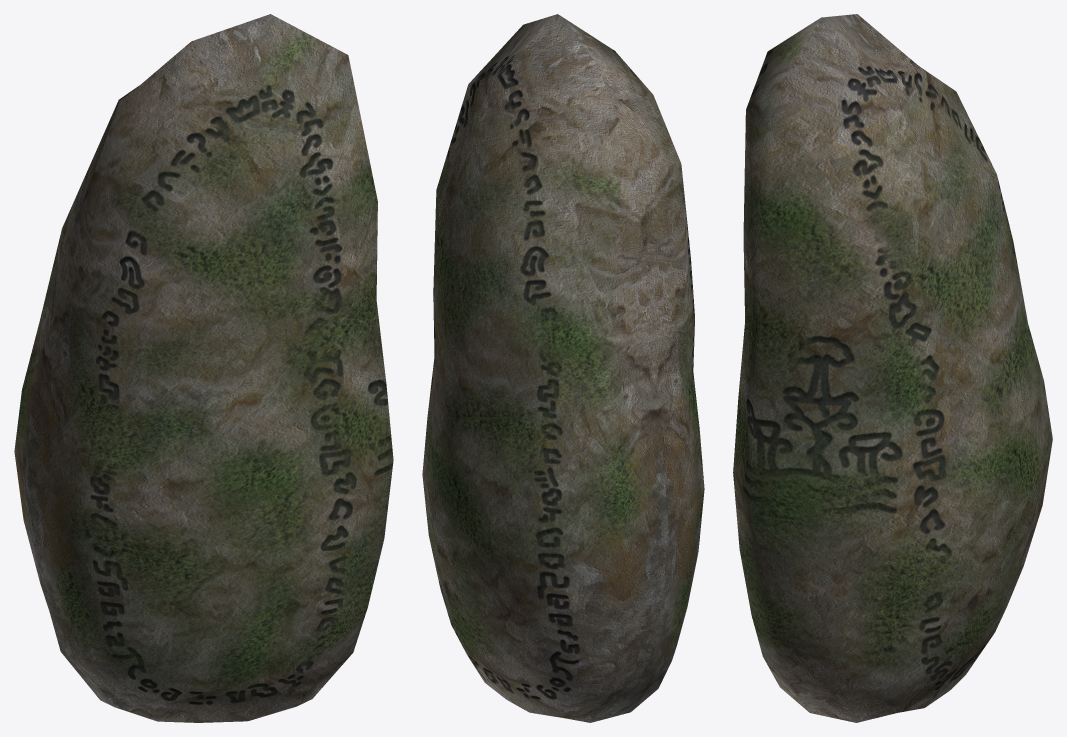
The model's file is RuneGlowStone16Shape.dae.
The picture shows the model from 3 angles, left to right: view 1: azimuth 30°, elevation 25°; view 2: azimuth 150°, elevation 25°; view 3: azimuth 270°, elevation 25°; orthographic projection. The views are drawn at different scales.
Visible parts, largest first — view 1: RuneGlowStone16; view 2: RuneGlowStone16; view 3: RuneGlowStone16.
Boxes of the visible parts, box(x1,y1,x2,y2) form: RuneGlowStone16: box(14, 14, 393, 722); RuneGlowStone16: box(422, 14, 704, 722); RuneGlowStone16: box(733, 14, 1052, 722).
Size of the model in its own units: 2.84 by 6.67 by 2.8.
